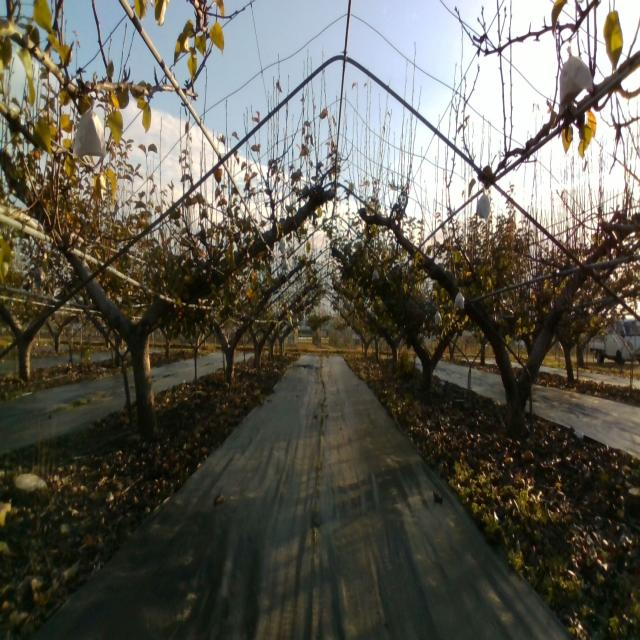pearbags: (558, 46, 594, 118), (72, 98, 107, 160), (476, 189, 492, 219), (453, 286, 465, 310)
